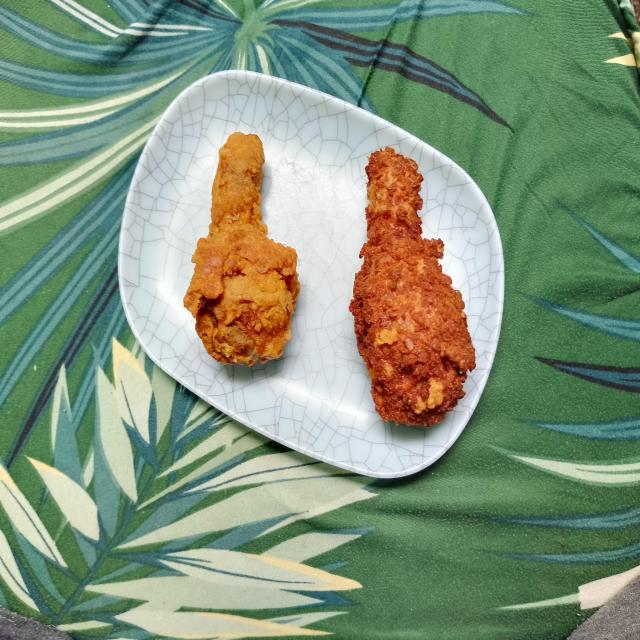Chicken -Fried Chicken-: (344, 132, 497, 438), (181, 123, 322, 392)
